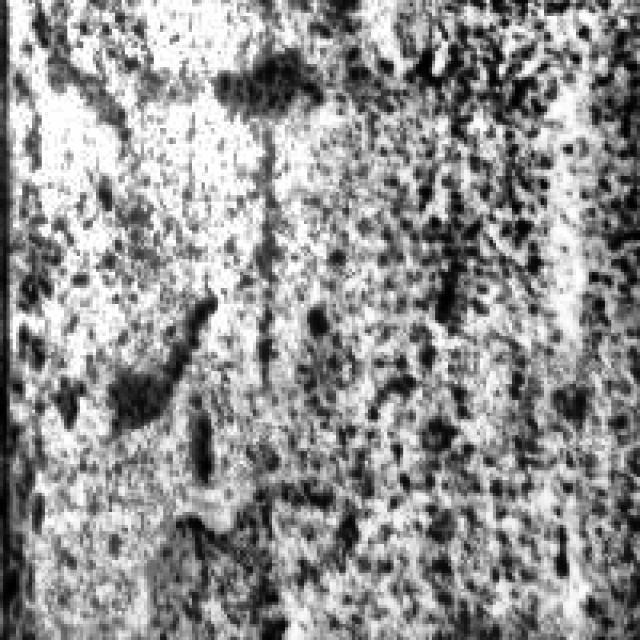Rolled_in_Scale: (131, 42, 602, 618)
